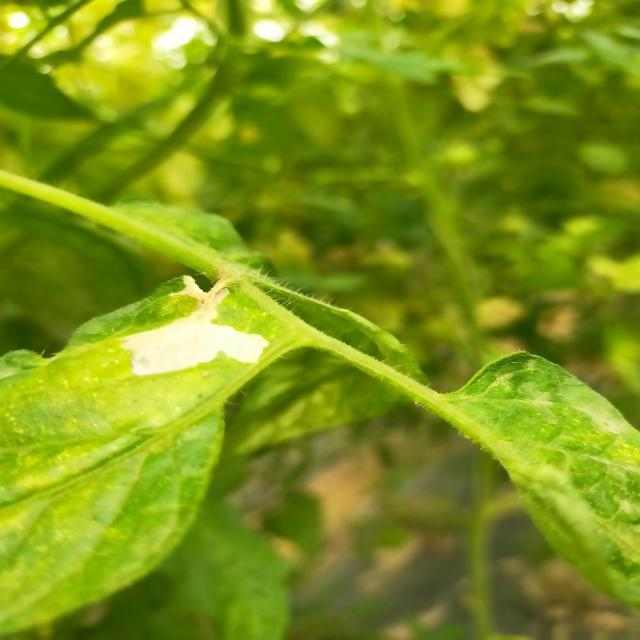Tuta absoluta: (116, 283, 271, 383)
